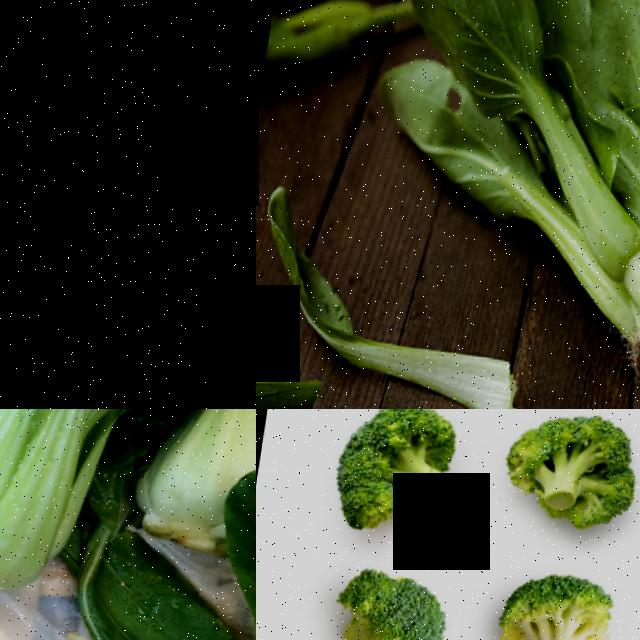bok choy: (525, 0, 640, 254), (0, 409, 149, 592)
broccoli: (314, 409, 483, 555), (492, 409, 638, 549), (482, 550, 640, 640), (317, 555, 451, 640)
